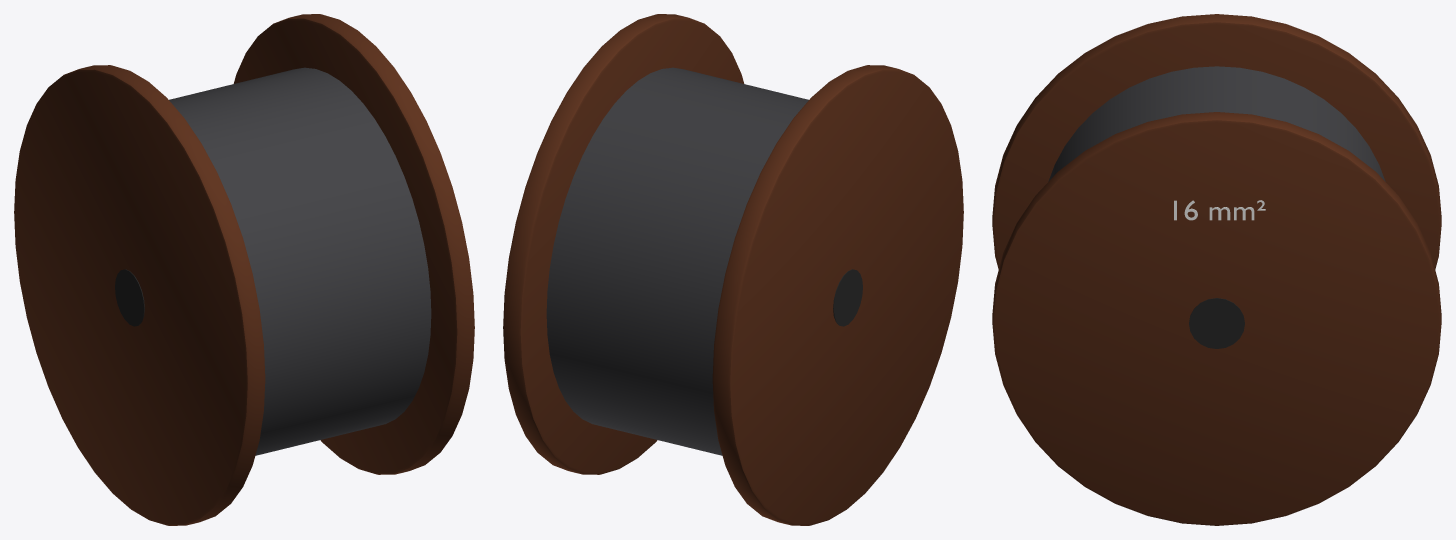
The model's file is ELE-FIO-006_anim.glb.
3 renders of one model, left to right at view 1: azimuth 30°, elevation 25°; view 2: azimuth 150°, elevation 25°; view 3: azimuth 270°, elevation 25°, orthographic. The views are drawn at different scales.
Visible parts, largest first — view 1: ELE-FIO-006_anim0; view 2: ELE-FIO-006_anim0; view 3: ELE-FIO-006_anim0.
Boxes of the visible parts, <box> form: ELE-FIO-006_anim0: <box>14,14,474,525</box>; ELE-FIO-006_anim0: <box>503,14,963,525</box>; ELE-FIO-006_anim0: <box>992,14,1441,525</box>.
Size of the model in its own units: 0.362 by 0.64 by 0.64.
4 materials, 1 textured.
